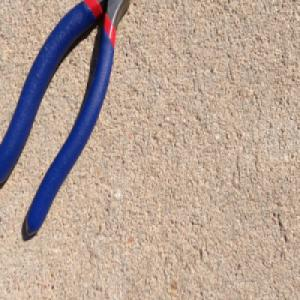Pliers: (2, 0, 133, 238)
